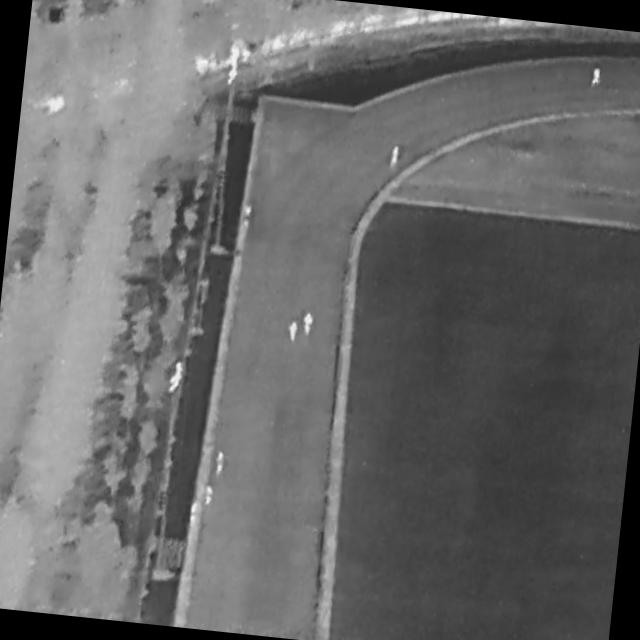person: (302, 311, 315, 338), (190, 500, 201, 528), (288, 319, 299, 344), (390, 143, 400, 170), (243, 203, 252, 229), (217, 450, 226, 475), (592, 65, 602, 87), (204, 485, 214, 506)
